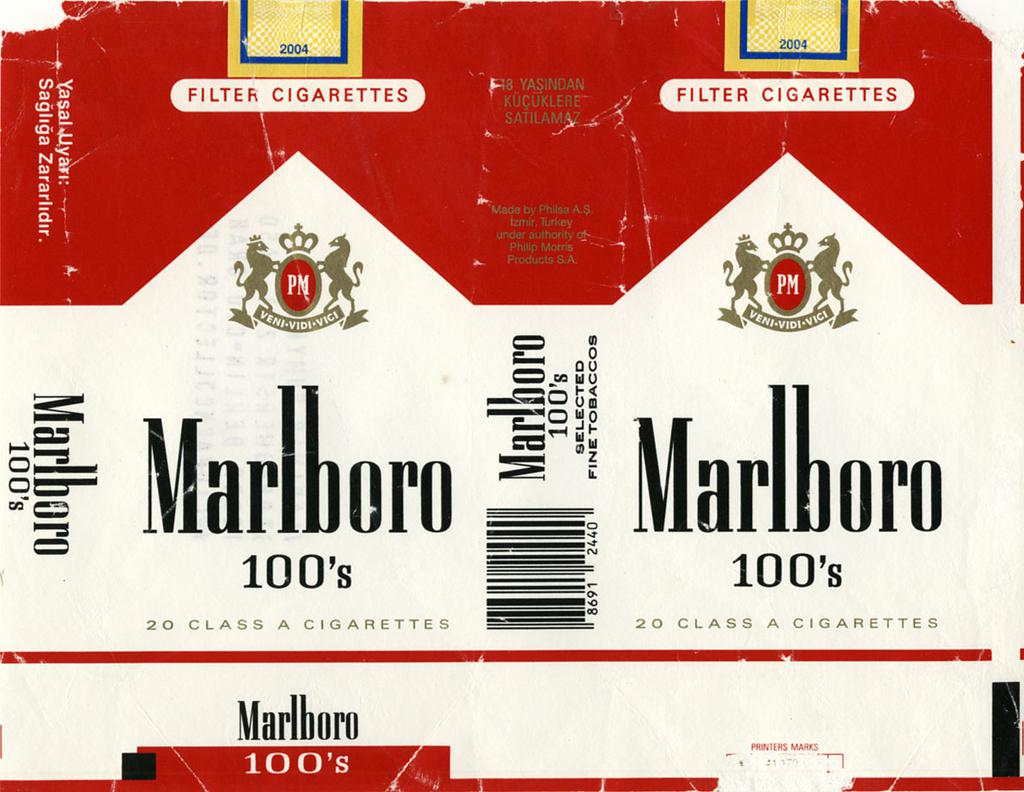marlboro_red: (612, 6, 993, 664), (106, 3, 468, 672)
